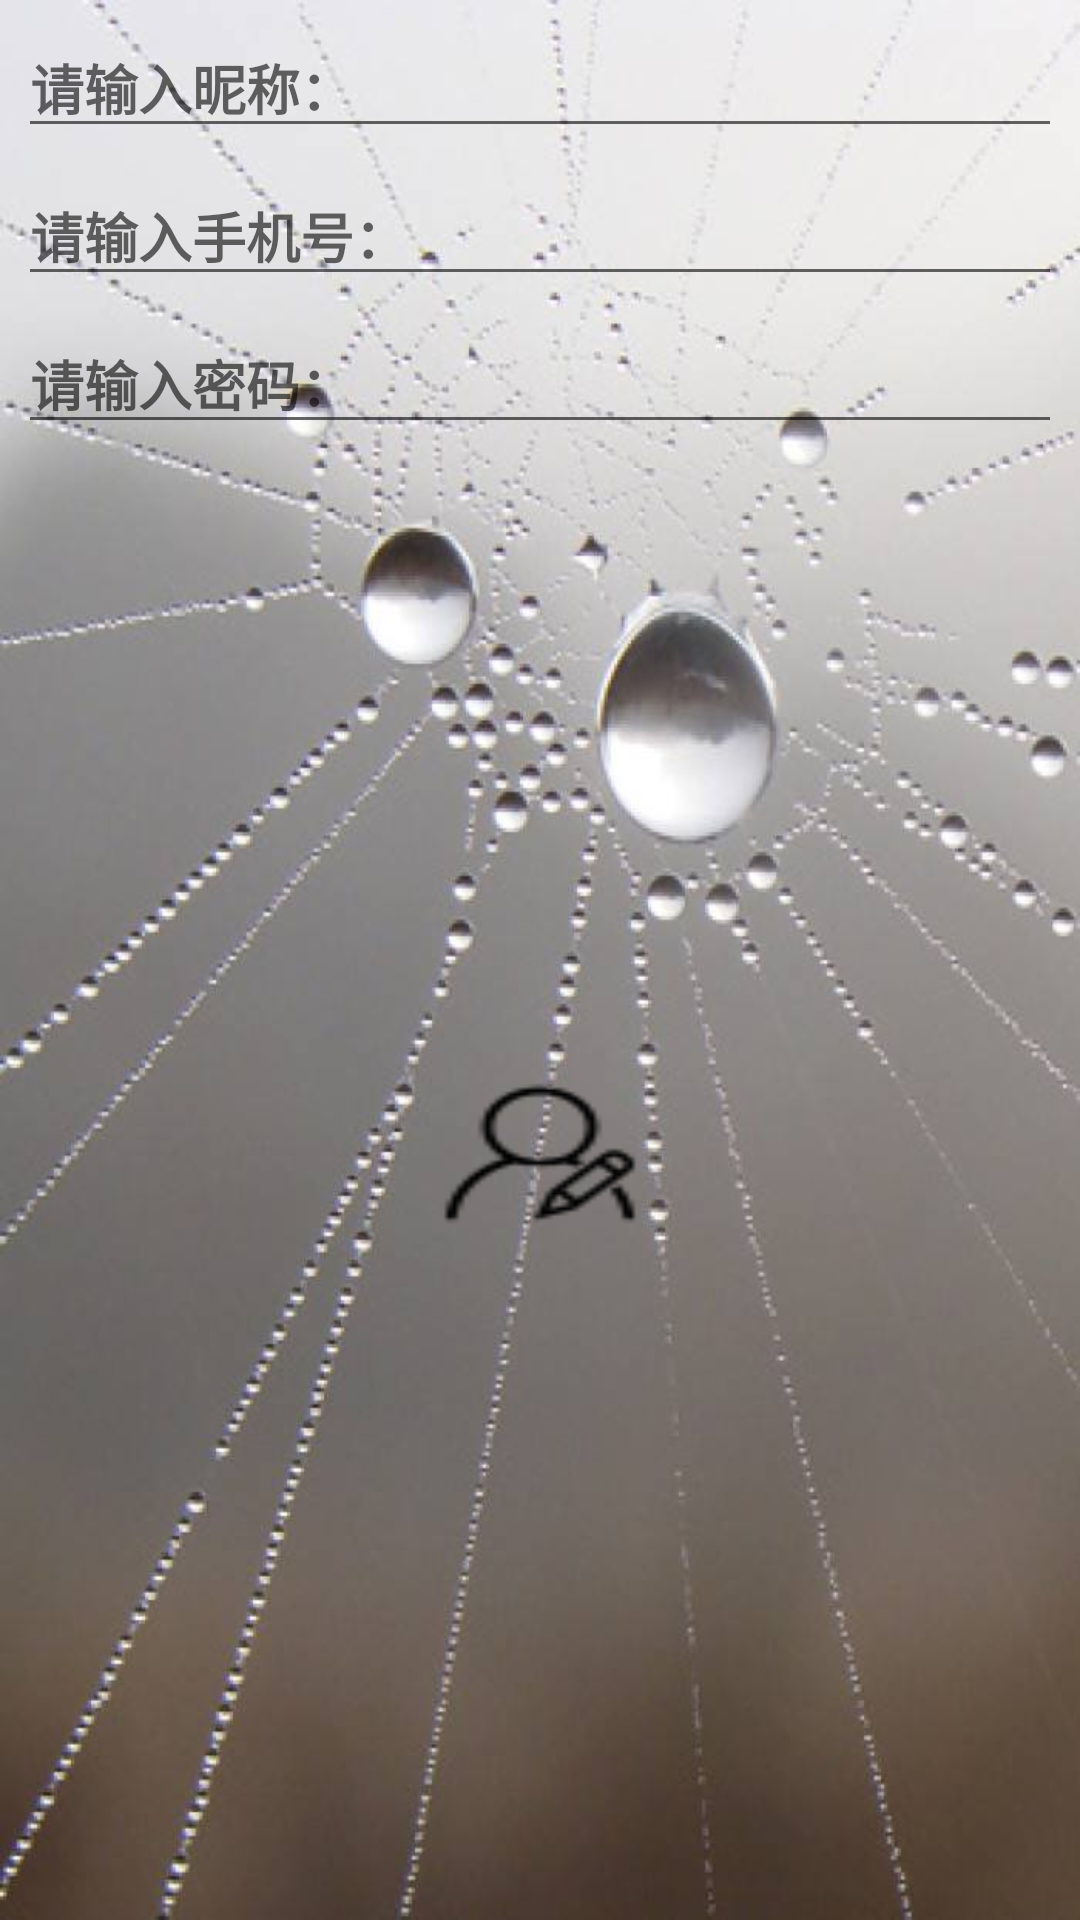

Icons on this 1080px x 1920px Android screen, each with its box as (x1, y1, x2, y2):
reregister: (408, 1068, 669, 1244)
